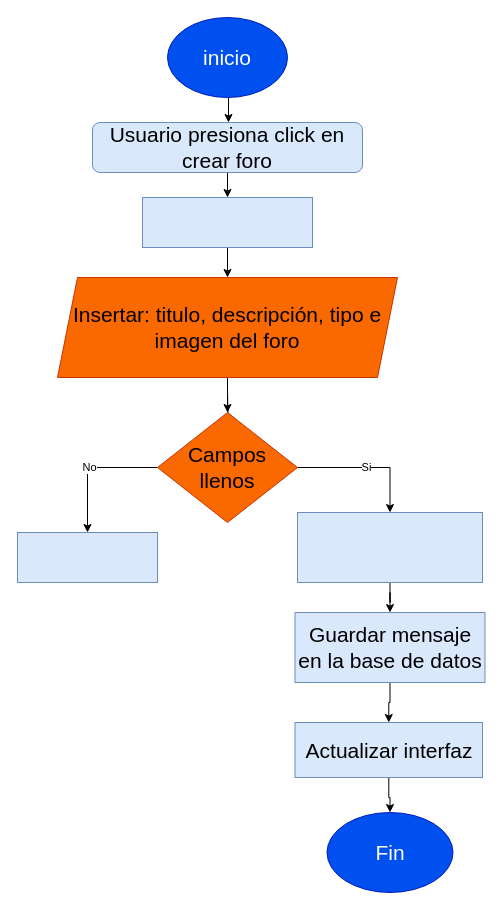
This 503x910 diagram has some shape labels left out. Each missing label, with the centre of its shape:
"desplegar formulario" goes at point (227, 222).
"Guardar datos en la base de datos" goes at point (389, 547).
"Mostrar error" goes at point (87, 557).
